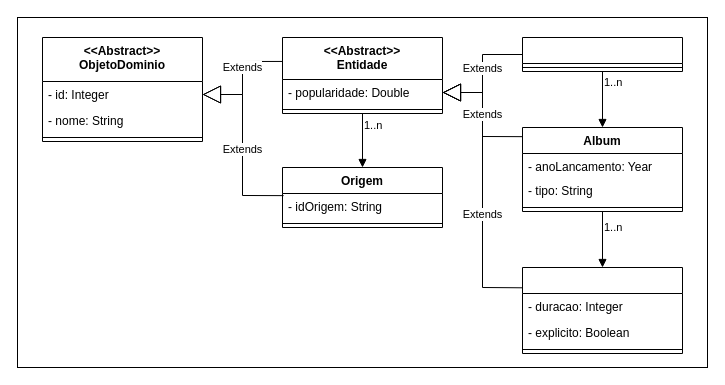
This 725x385 diagram has some shape labels left out. The shapes that lost their labels are listed below. From the top down, each one's box as (x1, y1, x2, y2) in pixels, then its label:
(522, 36, 682, 72): Artista
(522, 266, 682, 354): Musica
